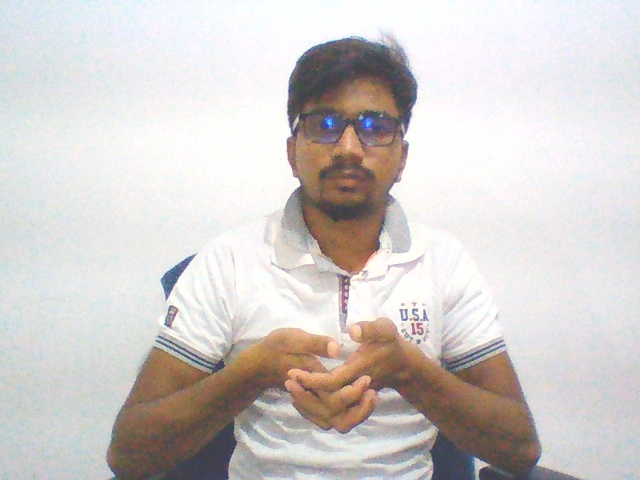mangosteen: (247, 316, 420, 438)
